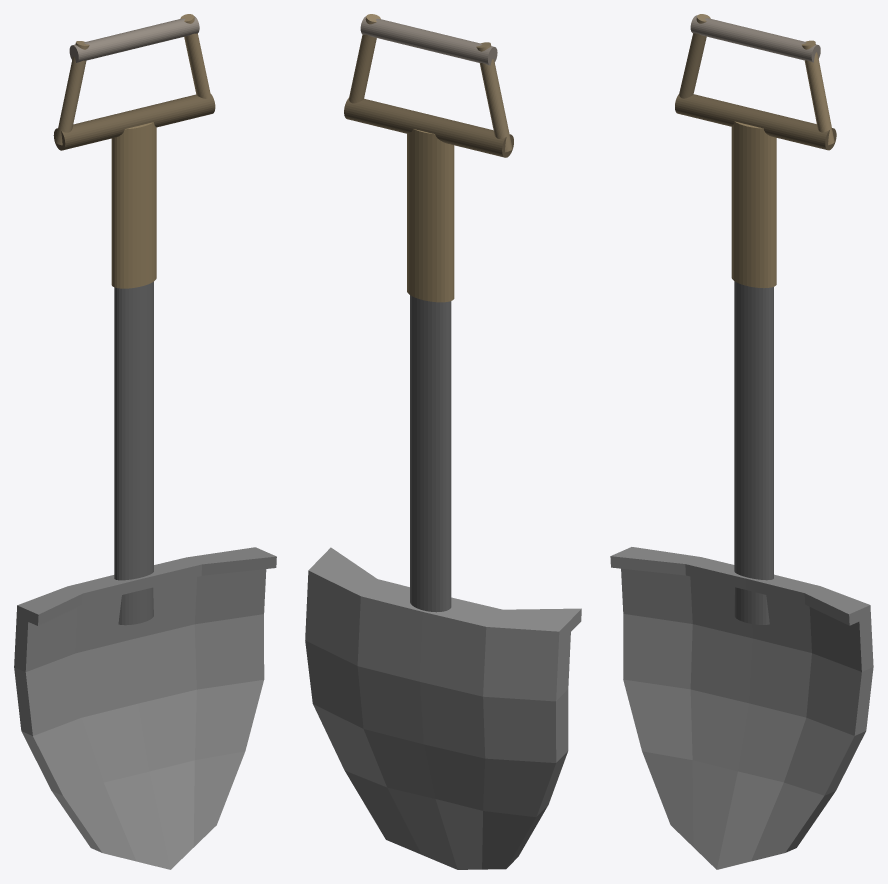
File: shovel model.fbx
3 renders of one model, left to right at view 1: azimuth 30°, elevation 25°; view 2: azimuth 150°, elevation 25°; view 3: azimuth 330°, elevation 25°, orthographic. The views are drawn at different scales.
Visible parts, largest first — view 1: Cube.023, Cylinder.014, Cylinder.015, Cylinder.017, Cylinder.016, Cylinder.019, Cylinder.018; view 2: Cube.023, Cylinder.014, Cylinder.015, Cylinder.017, Cylinder.016, Cylinder.019, Cylinder.018; view 3: Cube.023, Cylinder.014, Cylinder.015, Cylinder.017, Cylinder.016, Cylinder.018, Cylinder.019.
Boxes of the visible parts, <box> form: Cube.023: <box>14,547,276,869</box>; Cylinder.014: <box>114,281,153,625</box>; Cylinder.015: <box>111,122,156,288</box>; Cylinder.017: <box>53,94,215,150</box>; Cylinder.016: <box>69,16,199,62</box>; Cylinder.019: <box>55,41,89,145</box>; Cylinder.018: <box>180,14,210,98</box>; Cube.023: <box>305,547,581,869</box>; Cylinder.014: <box>410,295,451,612</box>; Cylinder.015: <box>407,129,454,302</box>; Cylinder.017: <box>344,98,513,157</box>; Cylinder.016: <box>360,16,497,65</box>; Cylinder.019: <box>476,42,512,152</box>; Cylinder.018: <box>349,14,380,103</box>; Cube.023: <box>610,547,873,869</box>; Cylinder.014: <box>734,281,773,624</box>; Cylinder.015: <box>731,121,776,288</box>; Cylinder.017: <box>675,94,836,150</box>; Cylinder.016: <box>690,15,820,62</box>; Cylinder.018: <box>801,40,834,145</box>; Cylinder.019: <box>679,14,710,98</box>.
Size of the model in its own units: 200 by 655 by 69.06.
